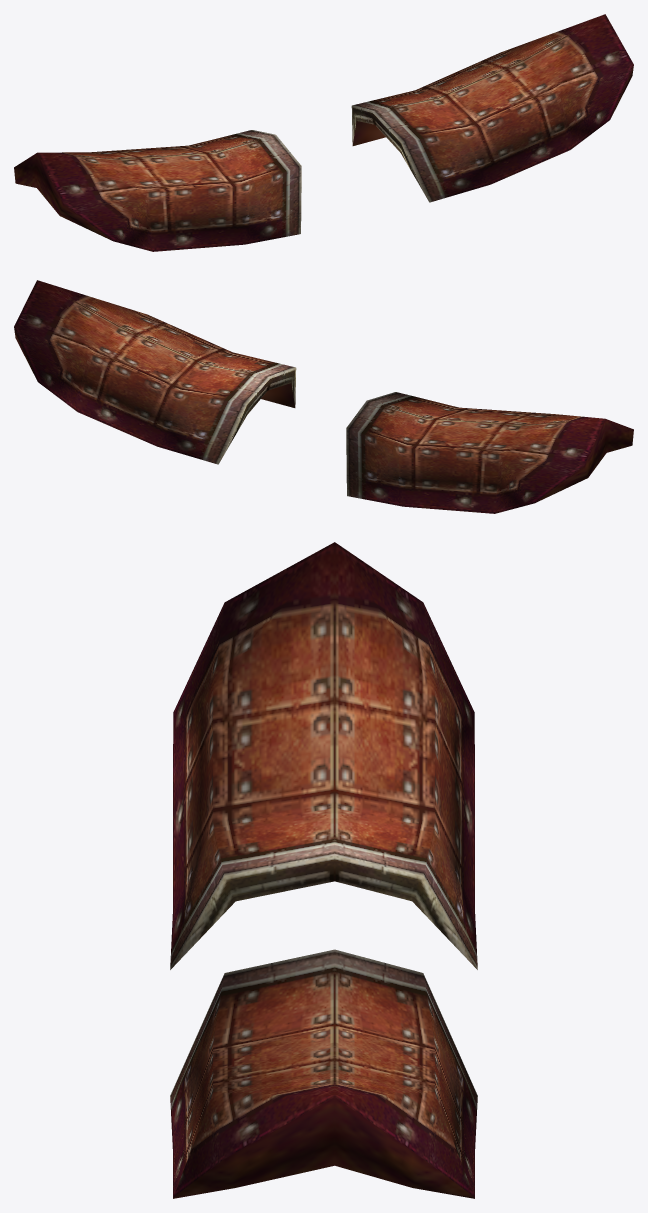
3 views of the same model, one above another, from view 1: azimuth 30°, elevation 25°; view 2: azimuth 150°, elevation 25°; view 3: azimuth 270°, elevation 25° (orthographic). The views are drawn at different scales.
Visible parts, largest first — view 1: Heavy_01_sa; view 2: Heavy_01_sa; view 3: Heavy_01_sa.
Part boxes in pixels (x1,y1,x2,y2): Heavy_01_sa: [14, 14, 633, 251]; Heavy_01_sa: [14, 280, 633, 513]; Heavy_01_sa: [170, 542, 477, 1198].
Size of the model in its own units: 0.5947 by 0.1047 by 0.1384.
1 material, 1 textured.
